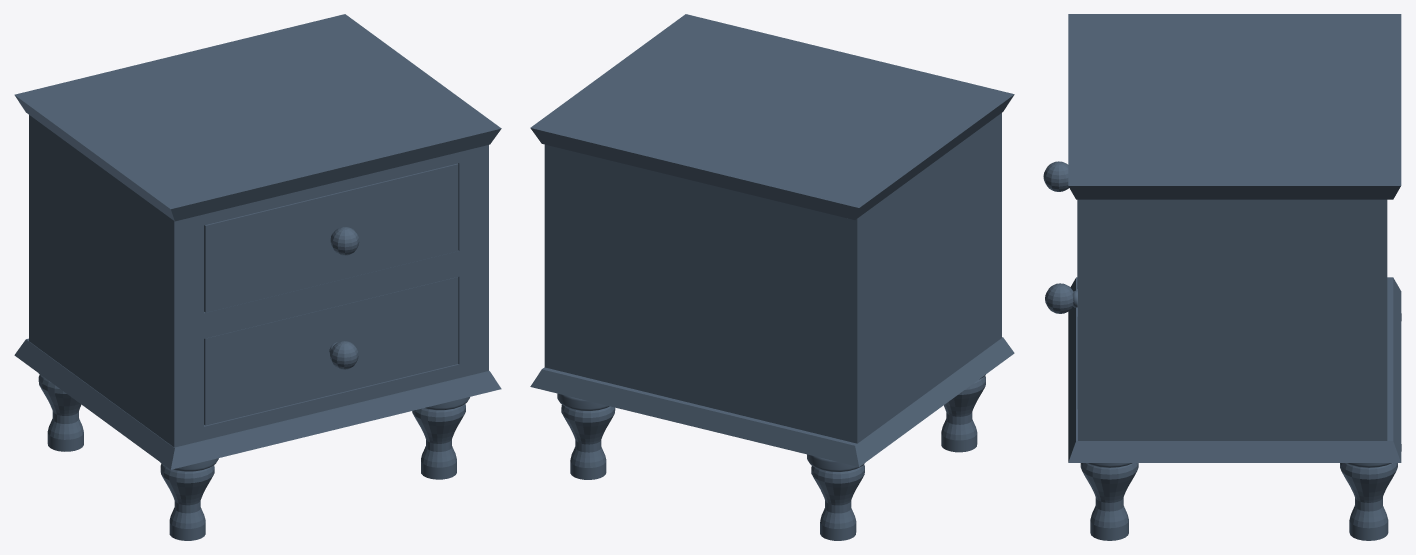
The model's file is nightstand low.fbx.
The picture shows the model from 3 angles, left to right: view 1: azimuth 30°, elevation 25°; view 2: azimuth 150°, elevation 25°; view 3: azimuth 270°, elevation 25°; orthographic projection. The views are drawn at different scales.
Visible parts, largest first — view 1: nighstand_18_low, nighstand_15_low, nighstand_16_low, nighstand_17_low, nighstand_05_low, nighstand_13_low, nighstand_10_low, nighstand_12_low, nighstand_01_low, nighstand_07_low, nighstand_06_low; view 2: nighstand_18_low, nighstand_15_low, nighstand_16_low, nighstand_13_low, nighstand_01_low, nighstand_03_low, nighstand_10_low; view 3: nighstand_18_low, nighstand_15_low, nighstand_16_low, nighstand_13_low, nighstand_03_low, nighstand_12_low, nighstand_07_low, nighstand_06_low.
Part boxes in pixels (x1,y1,x2,y2): nighstand_18_low: (14,14,501,221); nighstand_15_low: (29,226,488,447); nighstand_16_low: (29,115,488,332); nighstand_17_low: (204,163,458,312); nighstand_05_low: (204,277,458,425); nighstand_13_low: (14,338,501,469); nighstand_10_low: (160,464,214,540); nighstand_12_low: (412,403,465,479); nighstand_01_low: (38,375,83,451); nighstand_07_low: (330,341,358,369); nighstand_06_low: (330,227,359,255); nighstand_18_low: (530,14,1014,219); nighstand_15_low: (544,225,1001,443); nighstand_16_low: (544,113,1001,330); nighstand_13_low: (530,337,1014,466); nighstand_01_low: (811,464,864,540); nighstand_03_low: (561,404,615,479); nighstand_10_low: (941,376,985,452); nighstand_18_low: (1068,14,1401,199); nighstand_15_low: (1078,318,1387,440); nighstand_16_low: (1078,199,1387,320); nighstand_13_low: (1068,277,1401,462); nighstand_03_low: (1340,463,1397,540); nighstand_12_low: (1080,463,1138,540); nighstand_07_low: (1045,283,1073,313); nighstand_06_low: (1043,161,1068,191).
Size of the model in its own units: 55.03 by 55.16 by 48.46.
